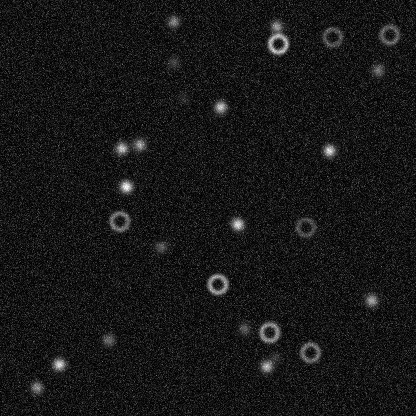Ring: (265, 31, 289, 55), (205, 272, 229, 296), (257, 320, 281, 344), (293, 215, 317, 239), (107, 208, 131, 232), (298, 340, 322, 364), (377, 22, 401, 46), (320, 24, 344, 48)
Spot: (236, 320, 252, 336), (212, 98, 228, 114), (152, 238, 168, 254), (229, 216, 245, 232), (363, 292, 379, 308), (369, 62, 385, 78), (28, 379, 44, 395), (50, 356, 66, 372), (165, 13, 181, 29), (100, 331, 116, 347), (258, 358, 274, 374), (321, 142, 337, 158), (165, 54, 181, 70), (113, 140, 129, 156), (266, 349, 282, 365), (268, 18, 284, 34), (175, 89, 191, 105), (117, 178, 133, 194), (131, 136, 147, 152)
